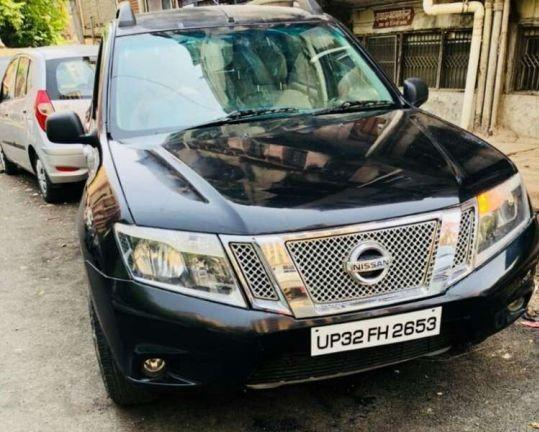License-Plate: (310, 311, 453, 353)
